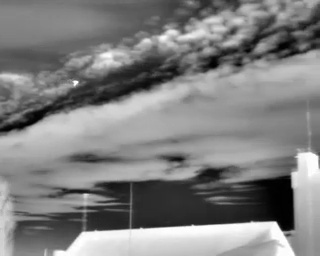BIRD: (70, 77, 81, 87)
